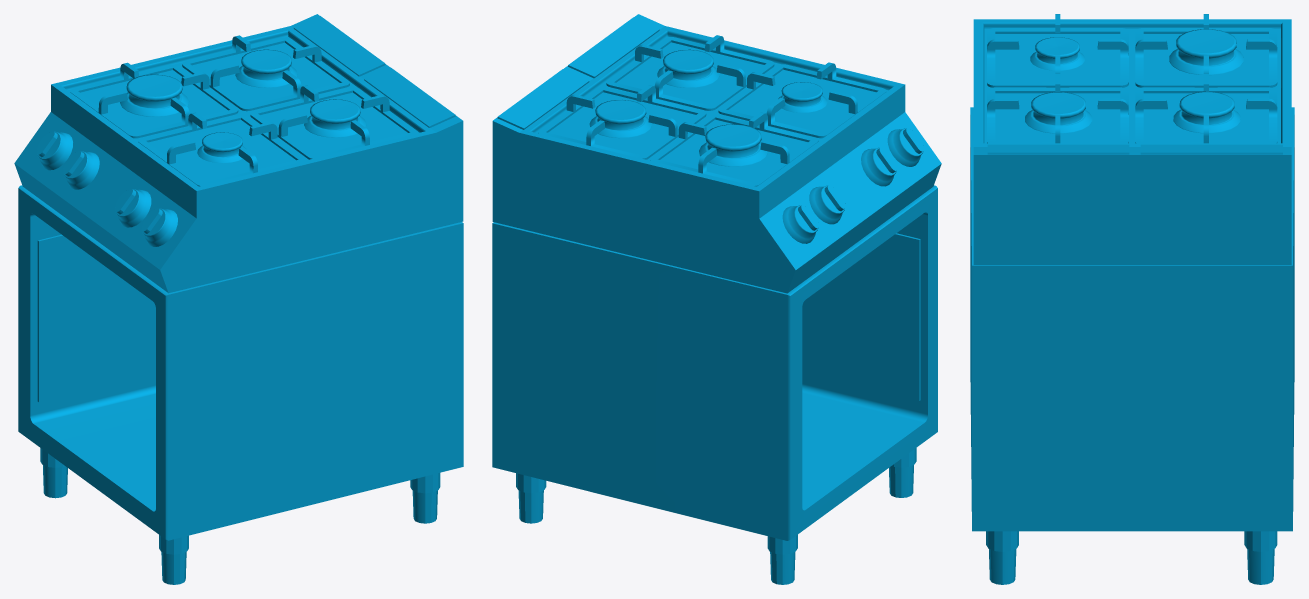
Rendered from Restaurant_Gas_Stove_Lod0.fbx.
The picture shows the model from 3 angles, left to right: view 1: azimuth 30°, elevation 25°; view 2: azimuth 150°, elevation 25°; view 3: azimuth 270°, elevation 25°; orthographic projection. The views are drawn at different scales.
Parts seen in each view (by area): view 1: Restaurant_Gas_Stove_Lod0; view 2: Restaurant_Gas_Stove_Lod0; view 3: Restaurant_Gas_Stove_Lod0.
Boxes of the visible parts, <box> form: Restaurant_Gas_Stove_Lod0: <box>14,14,463,584</box>; Restaurant_Gas_Stove_Lod0: <box>492,14,941,584</box>; Restaurant_Gas_Stove_Lod0: <box>970,14,1294,584</box>.
Bounding box in the file's own units: 69.61 × 89.7 × 59.19.
